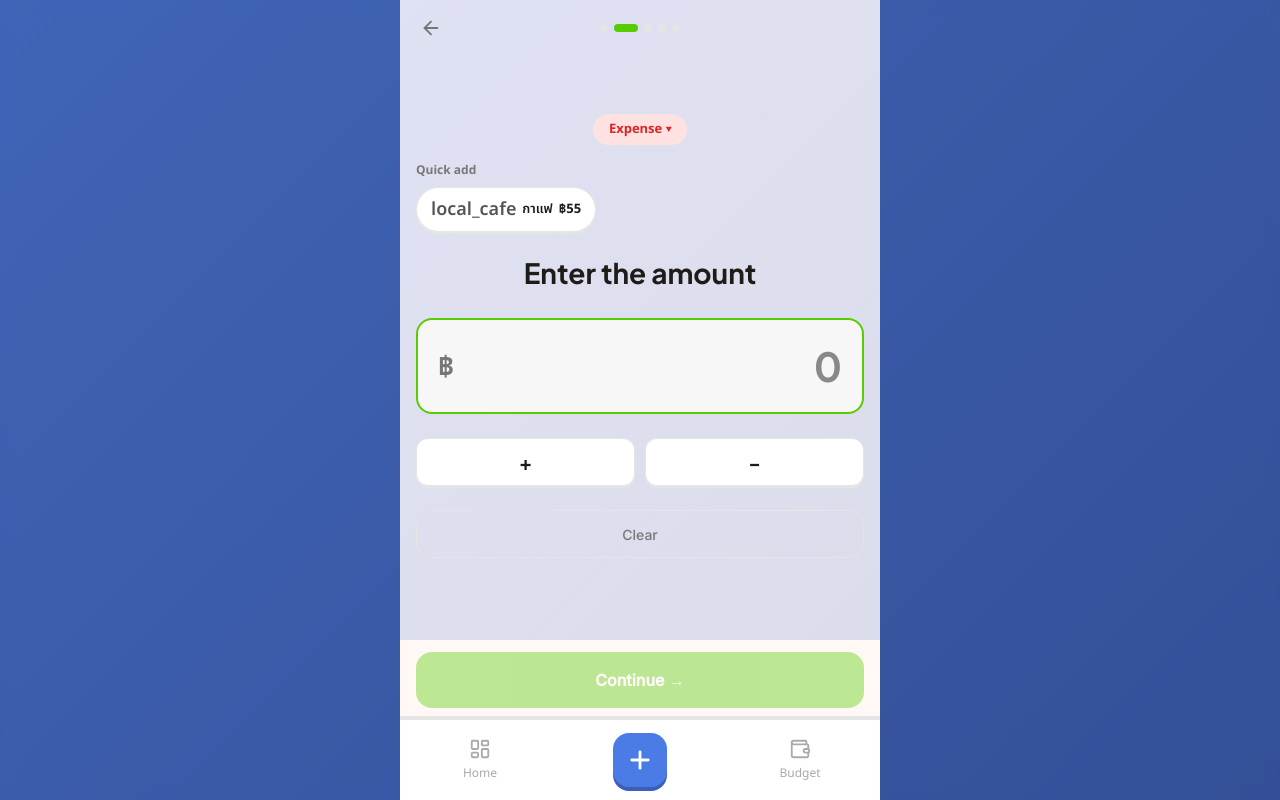
Test: quick-add template chips › renders a chip for a recurring pair; tapping it lands on confirm and saves with today date
Expected: the text "Quick add" is shown, top-left (416, 161), bottom-right (476, 179)
Click the text "฿55" at (570, 210), box top-left (559, 200), bottom-right (581, 220)
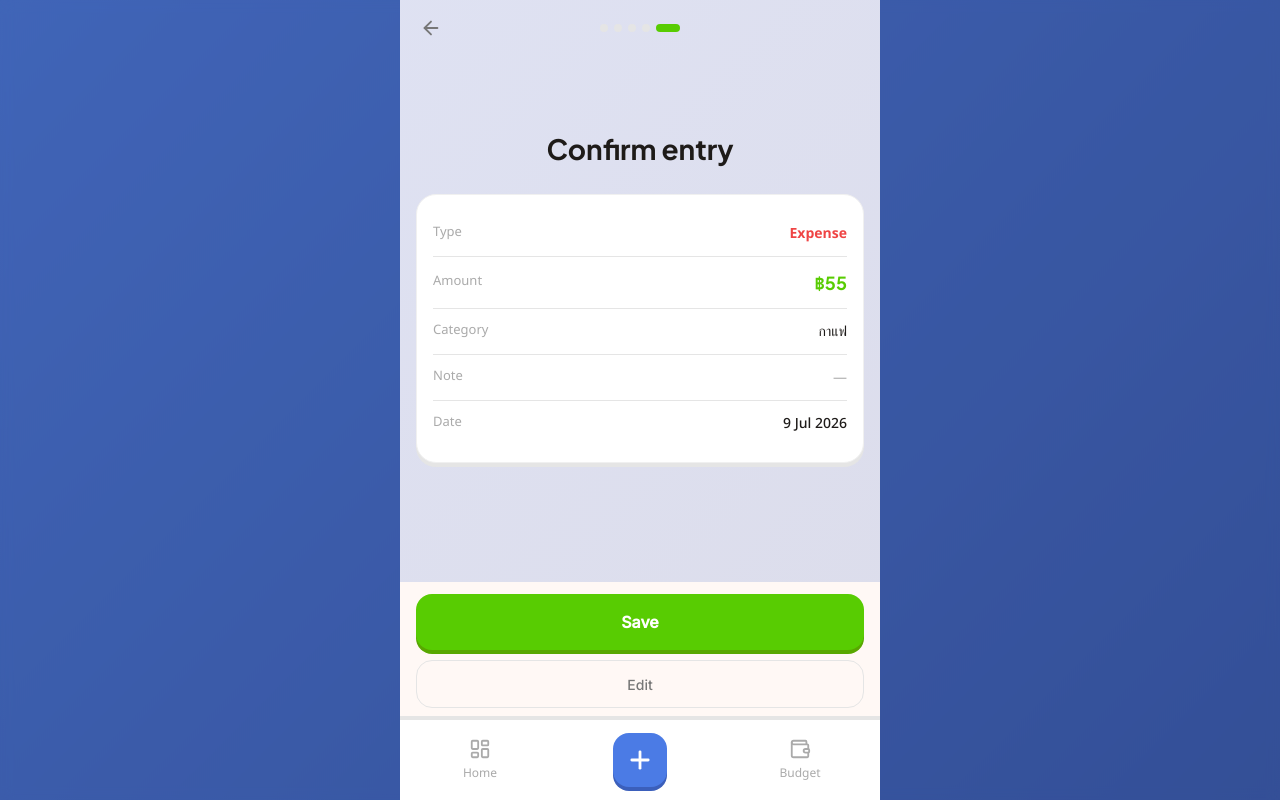
Now the heading "Confirm entry" is shown, box top-left (546, 130), bottom-right (734, 166)
Click the button "Save" at (640, 622), box top-left (416, 594), bottom-right (864, 650)
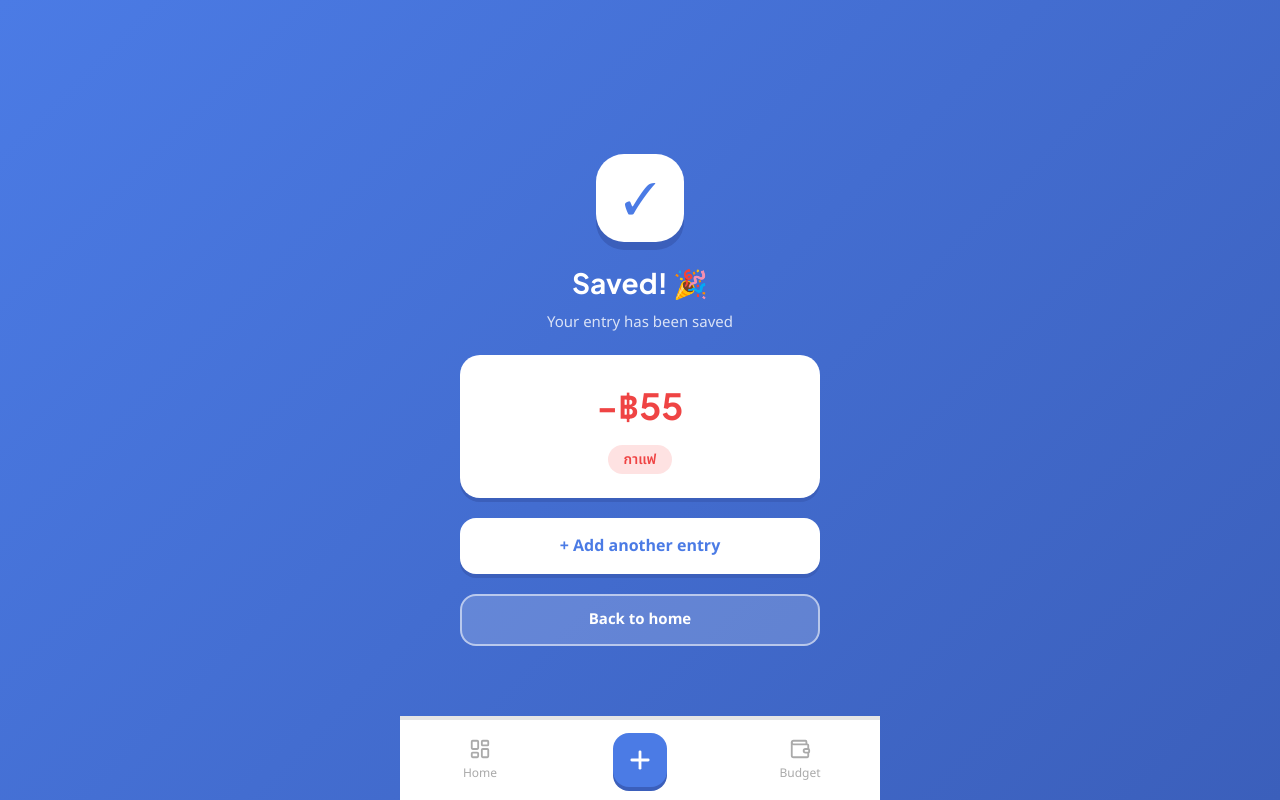
Now the button "+ Add another entry" is shown, box top-left (460, 518), bottom-right (820, 574)
